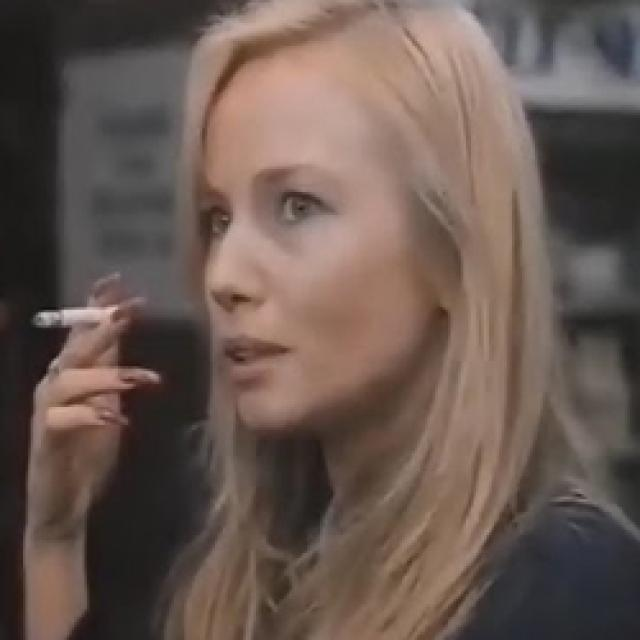Smooking: (23, 299, 122, 334)
